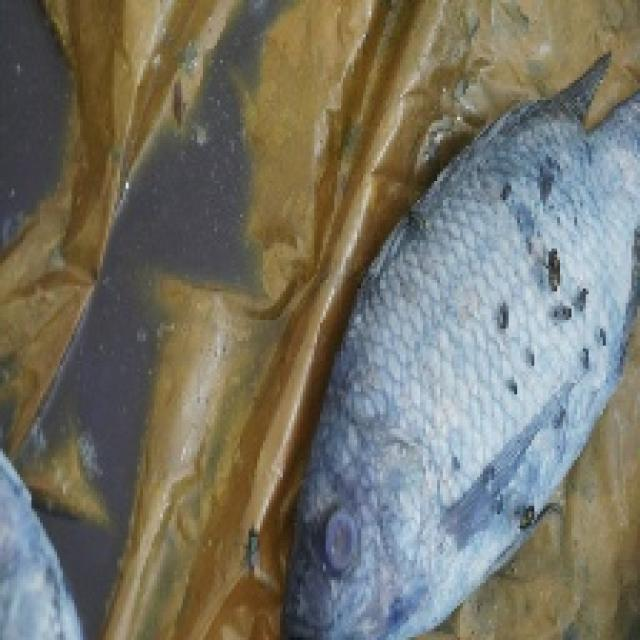Non-Fresh: (395, 144, 627, 608), (314, 500, 378, 599)
